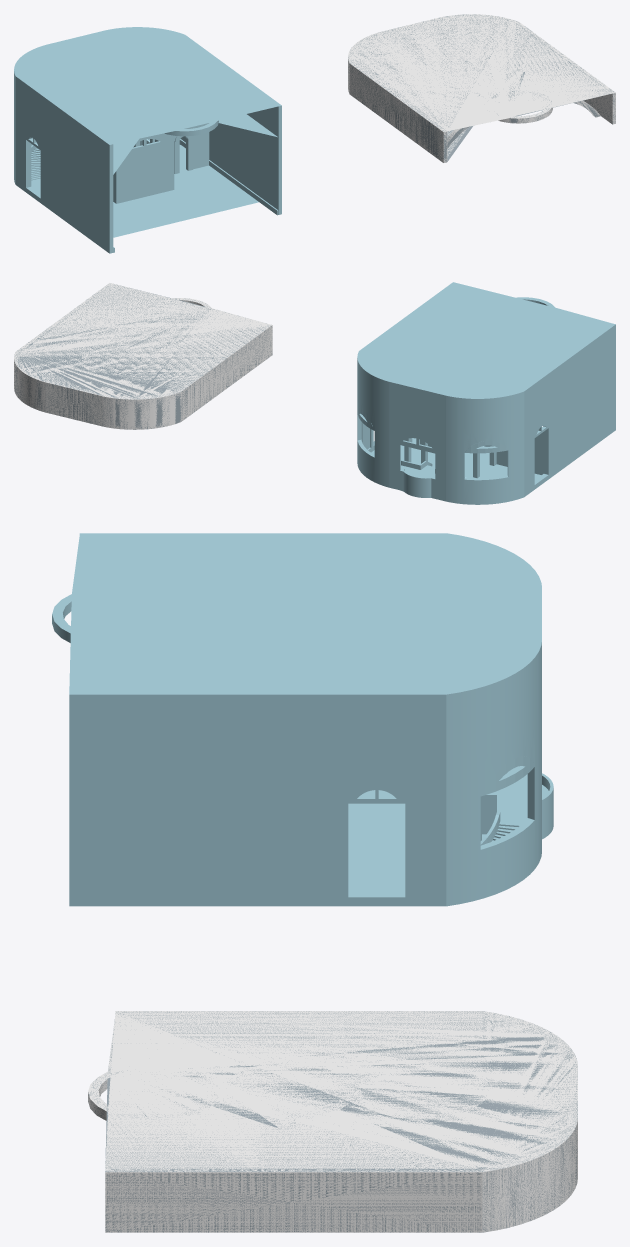
3 renders of one model, top to bottom at view 1: azimuth 30°, elevation 25°; view 2: azimuth 150°, elevation 25°; view 3: azimuth 270°, elevation 25°, orthographic. The views are drawn at different scales.
Visible parts, largest first — view 1: Model; view 2: Model; view 3: Model.
Boxes of the visible parts, x1,y1,x2,y2 form: Model: [14, 14, 615, 253]; Model: [14, 282, 615, 504]; Model: [52, 533, 577, 1232].
Bounding box in the file's own units: 4153 × 844 × 1891.
